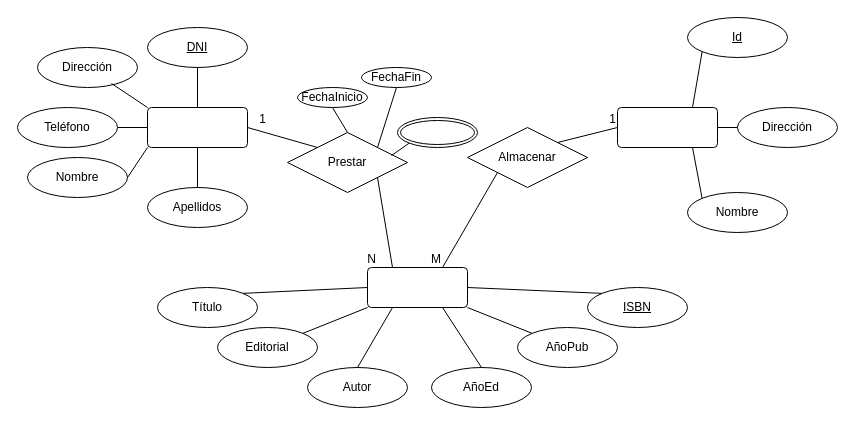
Image size: 855x425. Some labels were removed from this diagram. Here are the shapes that lost their labels. From the top down, the centre of each, then its label:
At point 197,127: "Socios".
At point 437,132: "FechaReal".
At point 667,127: "Biblioteca".
At point 417,287: "Libros".
